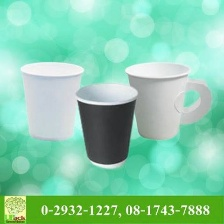paper_cup: (121, 58, 215, 144), (69, 78, 141, 172), (16, 57, 86, 144)
